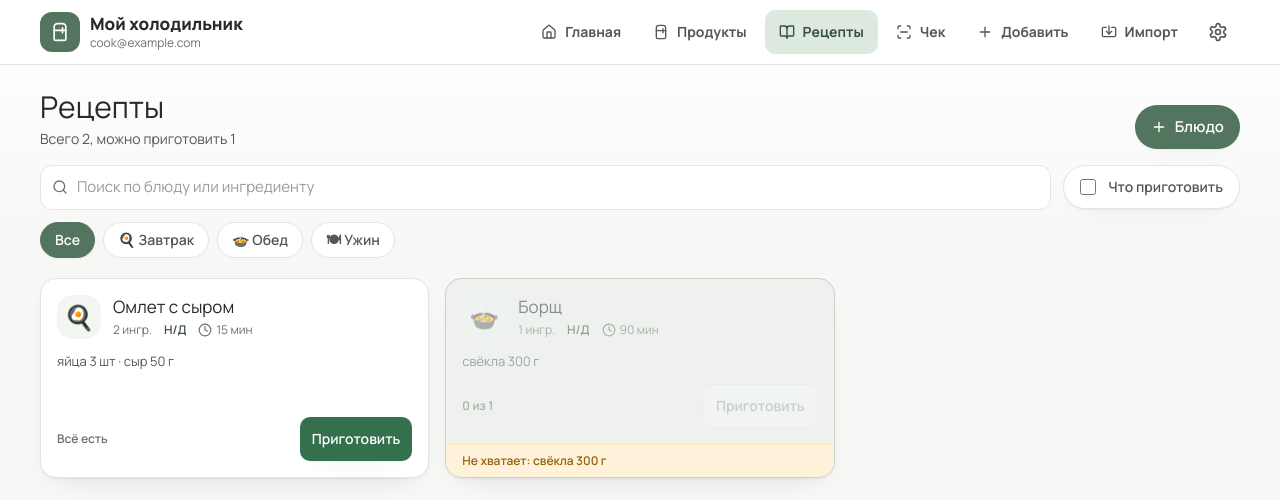
Test: Recipes › фильтр «Что приготовить» оставляет только доступные блюда
Expected: the text "Омлет с сыром" is shown, x1=113 y1=294 x2=234 y2=318
Click the checkbox labelled "Что приготовить" at (1088,187), box x1=1080 y1=179 x2=1096 y2=195
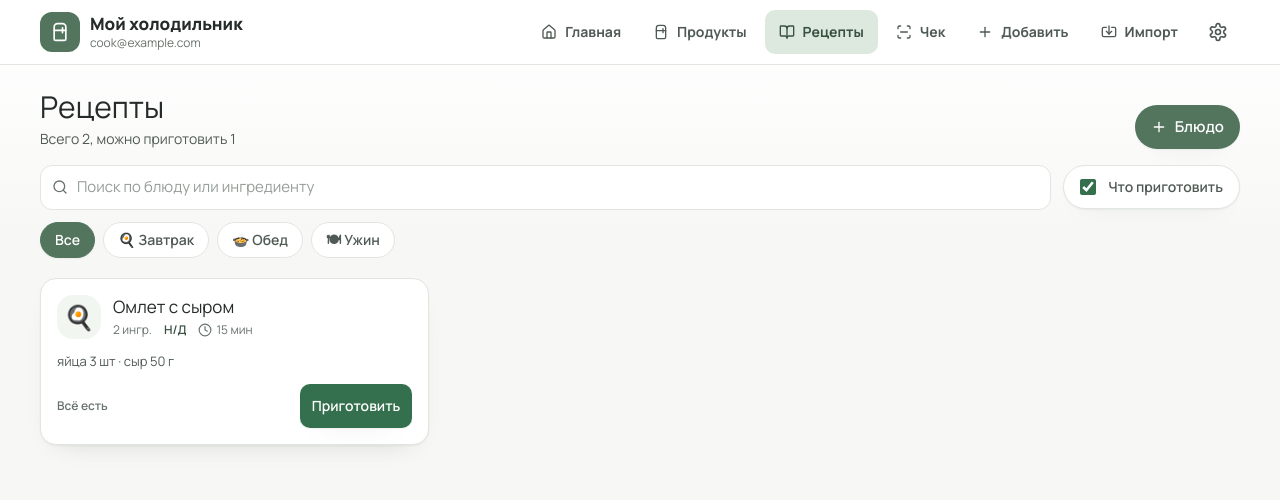
Expected: the text "Омлет с сыром" is shown, x1=113 y1=294 x2=234 y2=318
Expected: the link "Борщ" is gone
